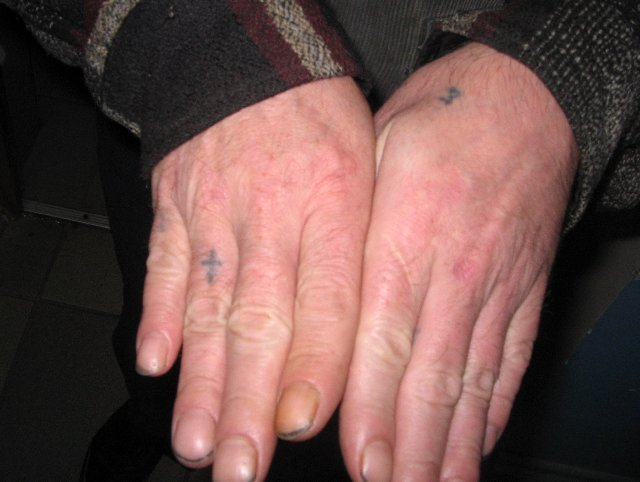tatu9_krest: (203, 241, 224, 282)
